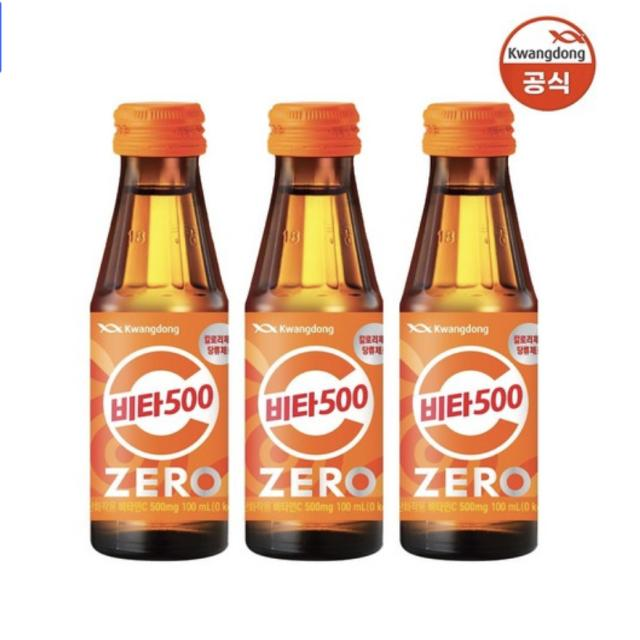recyclable: (71, 154, 248, 567), (224, 150, 394, 558), (392, 150, 548, 569)
